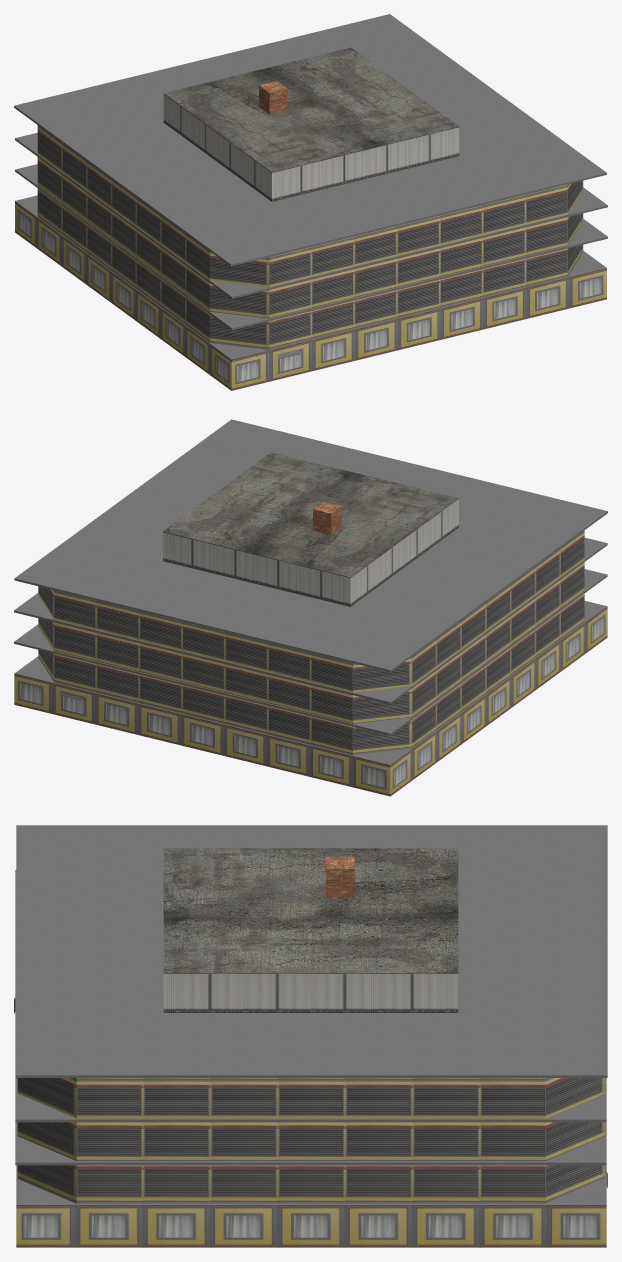
The model's file is LOD01_Building_4stores_CommercialCentre.obj.
The picture shows the model from 3 angles, top to bottom: view 1: azimuth 30°, elevation 25°; view 2: azimuth 150°, elevation 25°; view 3: azimuth 270°, elevation 25°; orthographic projection. The views are drawn at different scales.
Parts seen in each view (by area): view 1: LOD01_Building_4stores_CommercialCentre; view 2: LOD01_Building_4stores_CommercialCentre; view 3: LOD01_Building_4stores_CommercialCentre.
Boxes of the visible parts, x1=… form: LOD01_Building_4stores_CommercialCentre: x1=14, y1=14, x2=607, y2=390; LOD01_Building_4stores_CommercialCentre: x1=14, y1=419, x2=607, y2=796; LOD01_Building_4stores_CommercialCentre: x1=14, y1=825, x2=607, y2=1247.
Bounding box in the file's own units: 13.19 × 5.94 × 13.22.
